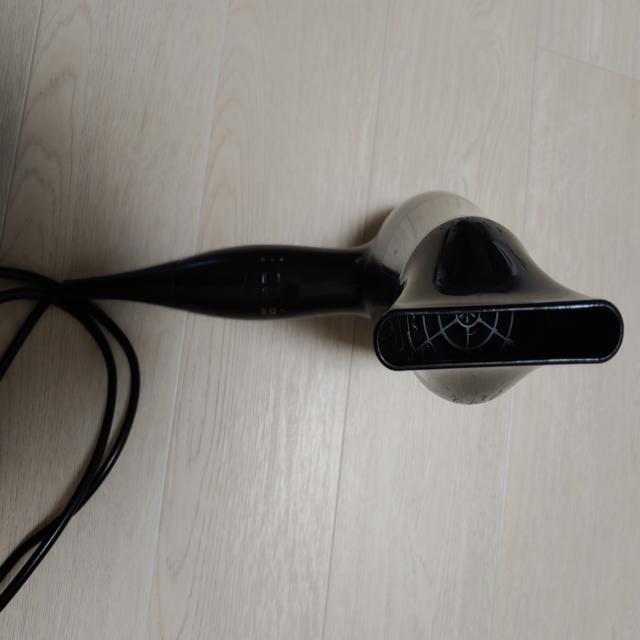dryer: (66, 187, 628, 409)
